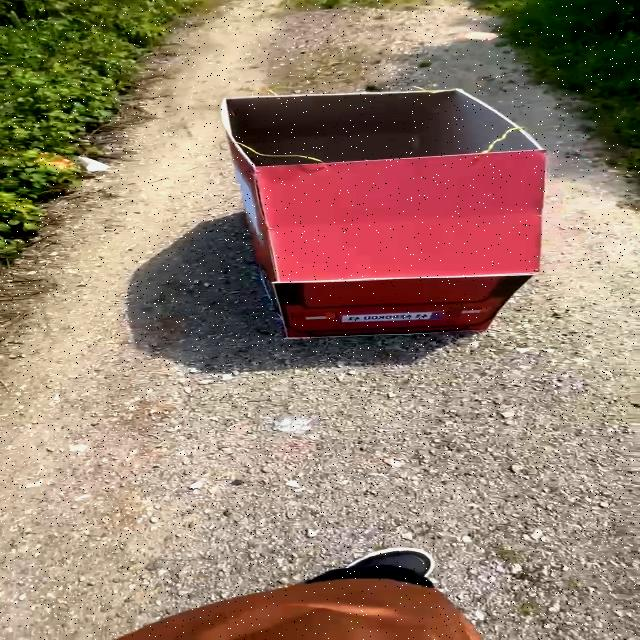red_car: (171, 77, 640, 371)
